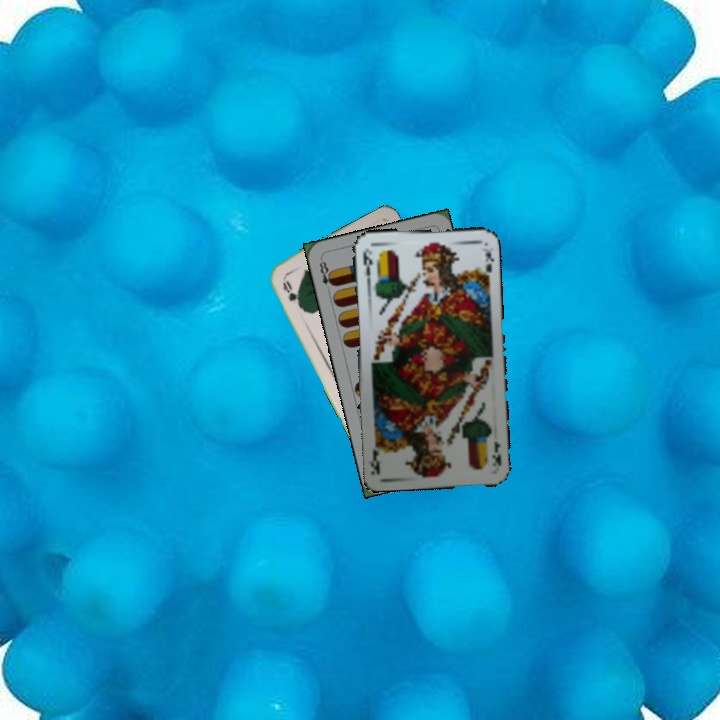E8: (315, 255, 337, 295)
EK: (359, 246, 374, 286), (488, 437, 503, 469)
GO: (278, 277, 305, 311)
